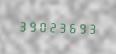nine: (27, 18, 36, 33), (77, 20, 86, 34)
six: (67, 20, 76, 34)
three: (57, 19, 66, 34), (17, 18, 26, 32), (87, 21, 96, 35)
two: (47, 19, 56, 33)
zero: (37, 19, 46, 33)
